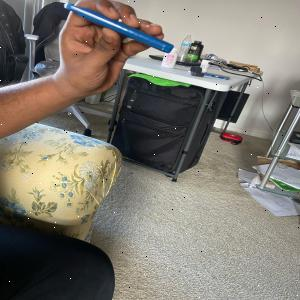Diamond-E-Ciggirate: (62, 1, 175, 54)
